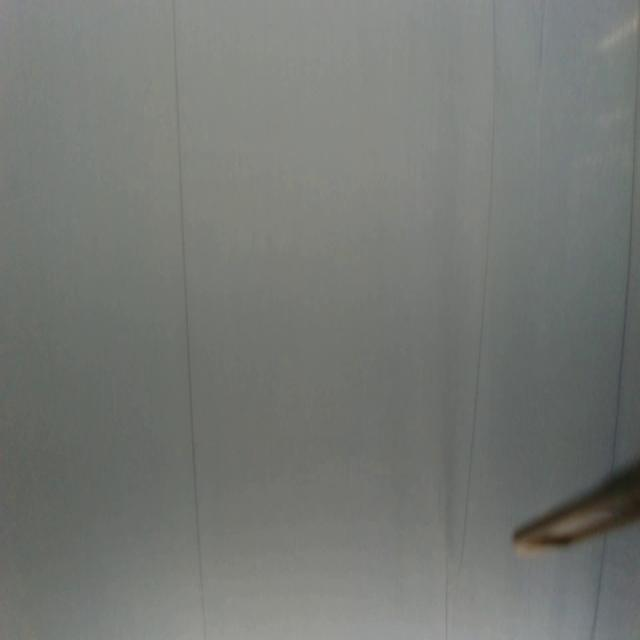crease: (458, 0, 498, 581), (171, 0, 207, 640), (610, 59, 640, 469), (590, 533, 609, 640), (442, 516, 452, 640)
